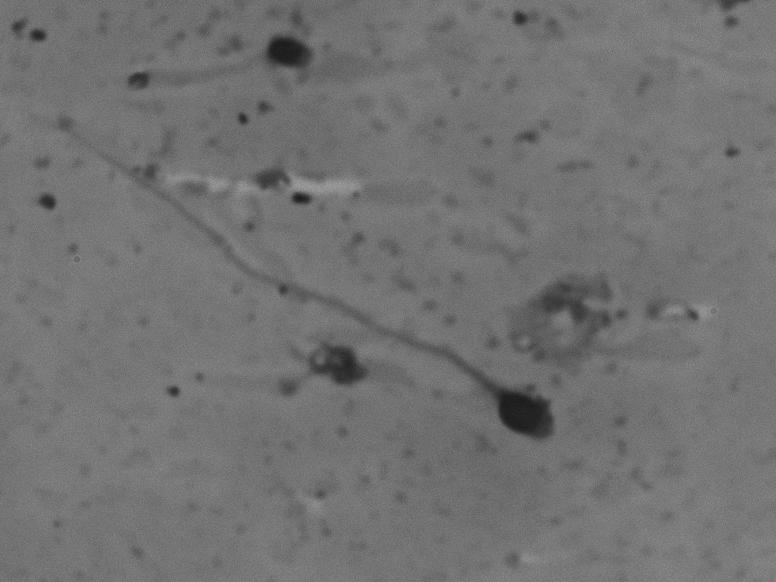Abnormal: (50, 100, 561, 463)
